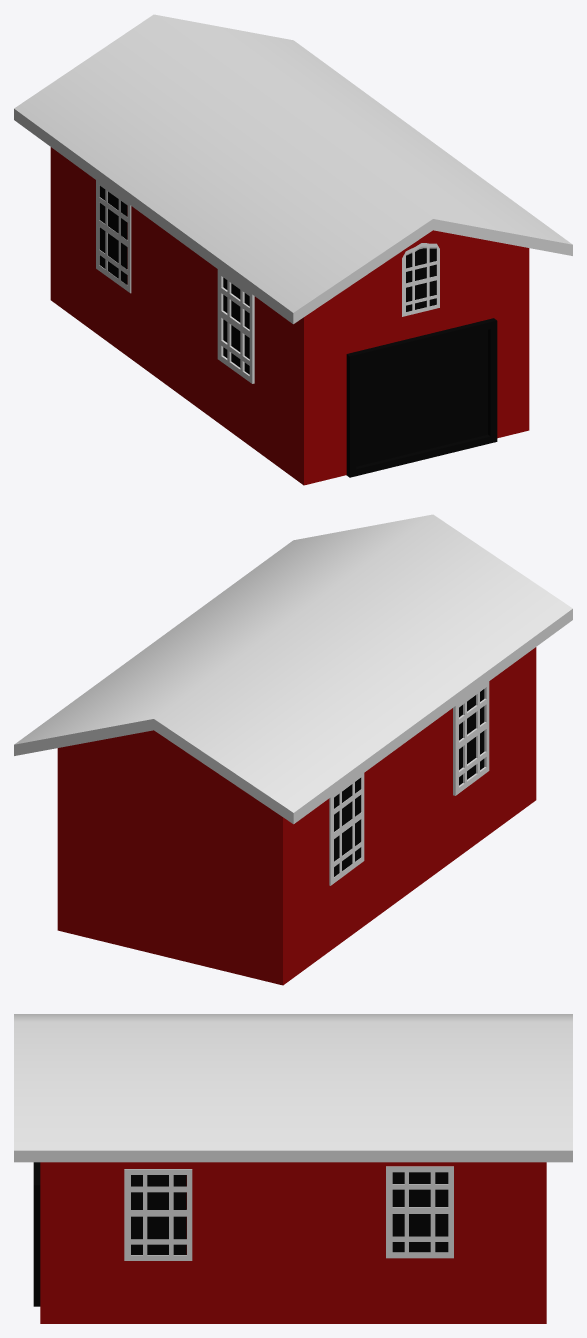
Rendered from farmhouse_2_red.fbx.
3 views of the same model, one above another, from view 1: azimuth 30°, elevation 25°; view 2: azimuth 150°, elevation 25°; view 3: azimuth 270°, elevation 25° (orthographic).
Visible parts, largest first — view 1: polySurface4, polySurface5, polySurface3, polySurface8, polySurface7, polySurface12, polySurface1, polySurface10, polySurface13; view 2: polySurface4, polySurface5, polySurface8, polySurface7, polySurface12, polySurface13; view 3: polySurface4, polySurface5, polySurface2, polySurface6, polySurface9, polySurface11, polySurface3.
Boxes of the visible parts, x1,y1,x2,y2 form: polySurface4: (14,14,572,324); polySurface5: (50,147,529,485); polySurface3: (346,318,497,477); polySurface8: (217,269,254,383); polySurface7: (96,180,131,293); polySurface12: (99,186,127,284); polySurface1: (402,243,439,316); polySurface10: (406,248,436,311); polySurface13: (223,277,249,374); polySurface4: (14,514,572,824); polySurface5: (57,647,536,985); polySurface8: (453,681,489,795); polySurface7: (329,773,364,885); polySurface12: (334,778,360,876); polySurface13: (459,689,484,785); polySurface4: (14,1014,572,1162); polySurface5: (40,1162,546,1323); polySurface2: (386,1166,453,1258); polySurface6: (124,1169,192,1260); polySurface9: (392,1172,448,1252); polySurface11: (131,1175,186,1254); polySurface3: (33,1162,40,1306).
Size of the model in its own units: 12.79 by 10.84 by 22.12.
